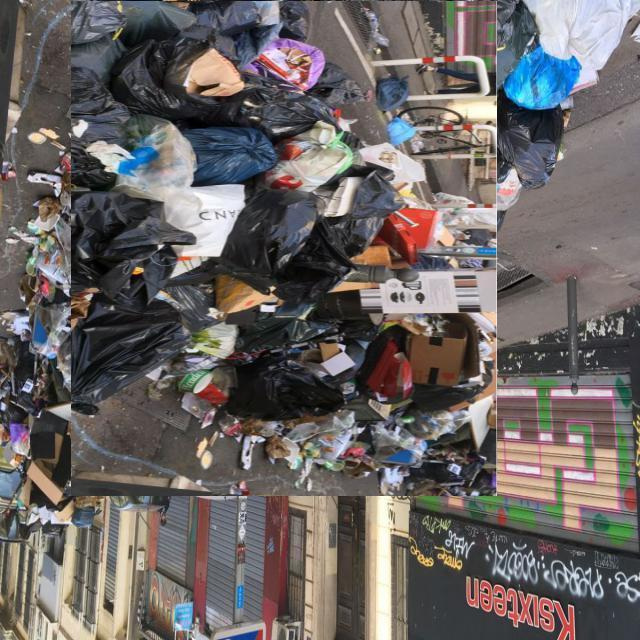Trashbag: (74, 187, 169, 301), (77, 42, 170, 135), (501, 100, 562, 196), (74, 310, 150, 387), (248, 198, 308, 277), (178, 2, 258, 56), (251, 361, 344, 407), (244, 88, 315, 131), (207, 124, 258, 175), (315, 221, 351, 283), (348, 177, 387, 216), (283, 5, 316, 46), (333, 63, 362, 104)
